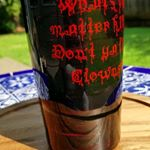cups: (15, 1, 127, 150)
